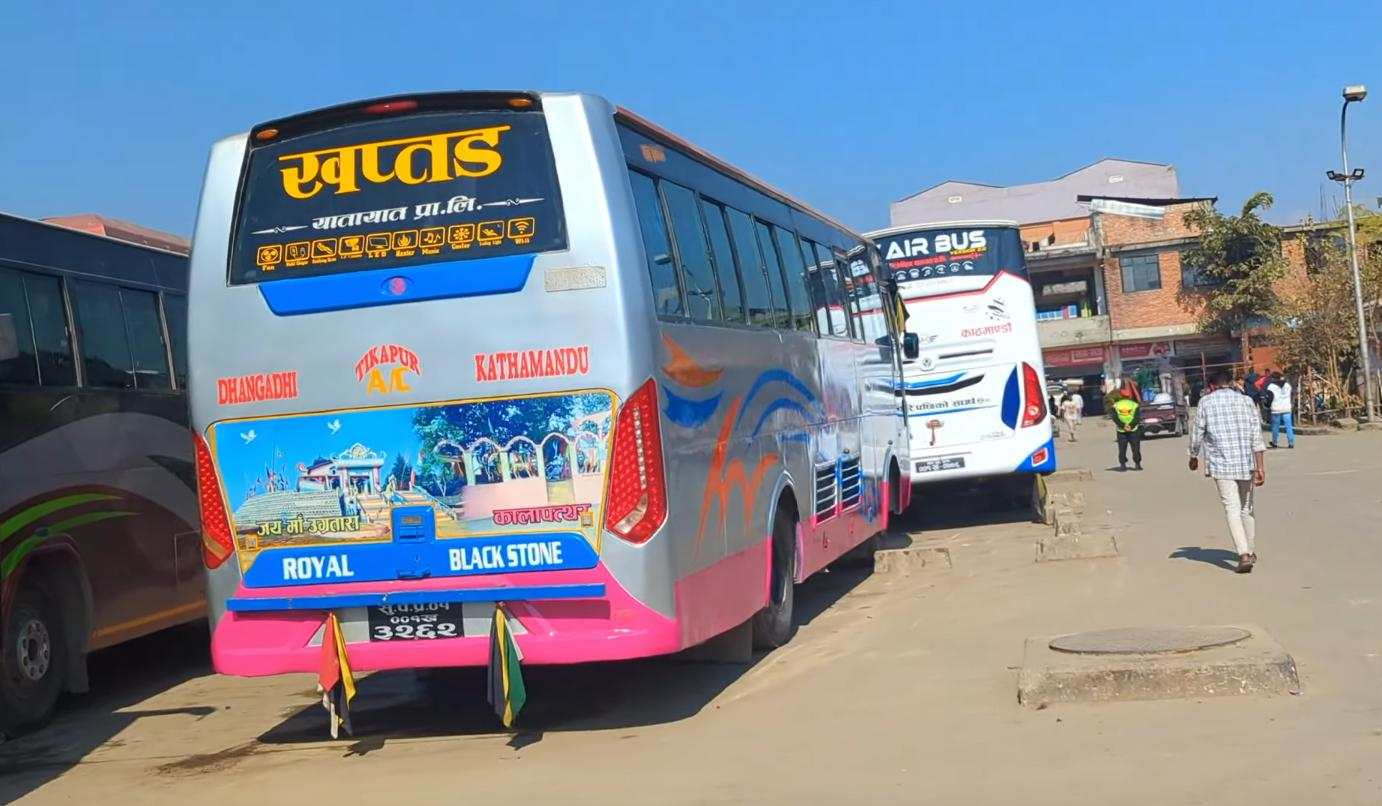bus: (170, 79, 926, 719), (856, 211, 1063, 504)
